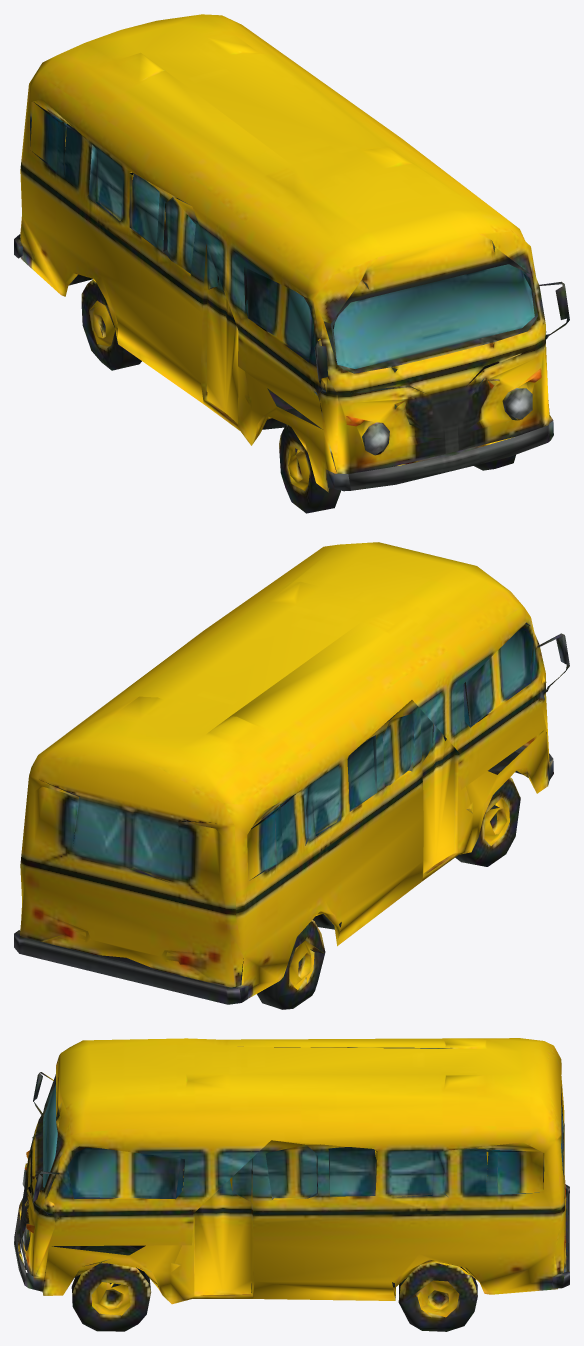
The model's file is danfo.glb.
The picture shows the model from 3 angles, top to bottom: view 1: azimuth 30°, elevation 25°; view 2: azimuth 150°, elevation 25°; view 3: azimuth 270°, elevation 25°; orthographic projection. The views are drawn at different scales.
Parts seen in each view (by area): view 1: danfo; view 2: danfo; view 3: danfo.
Part boxes in pixels (left/top/right/bottom): danfo: left=14, top=14, right=569, bottom=513; danfo: left=14, top=542, right=569, bottom=1009; danfo: left=14, top=1038, right=569, bottom=1331.
Bounding box in the file's own units: 2.15 × 2.29 × 4.94.
Materials: 1 (1 with a texture image).
